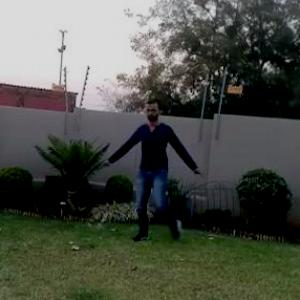land: (106, 104, 208, 238)
